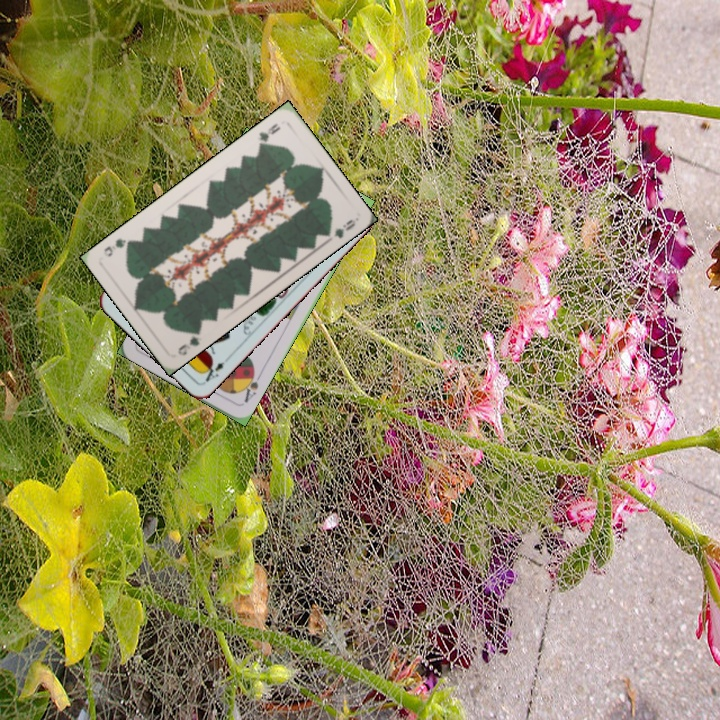EA: (196, 357, 227, 385)
G9: (174, 324, 204, 358), (254, 119, 283, 151)
SA: (237, 367, 264, 405)
